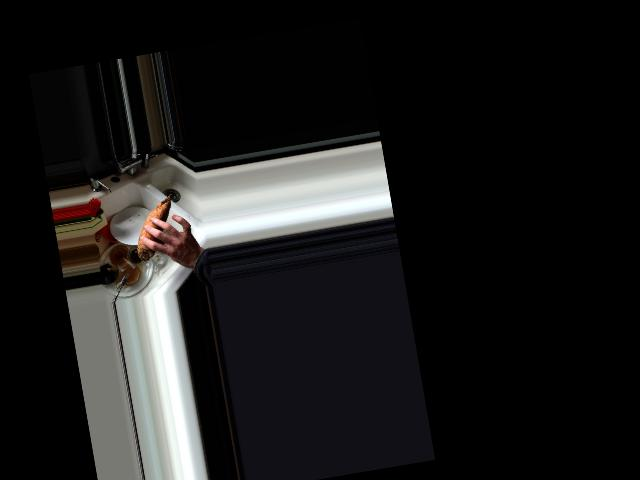sweet_potato: (128, 193, 182, 261)
